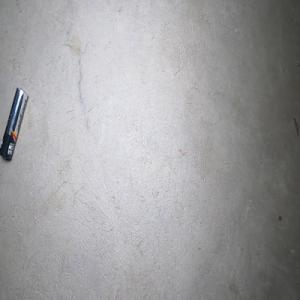Battery: (0, 86, 28, 160)
